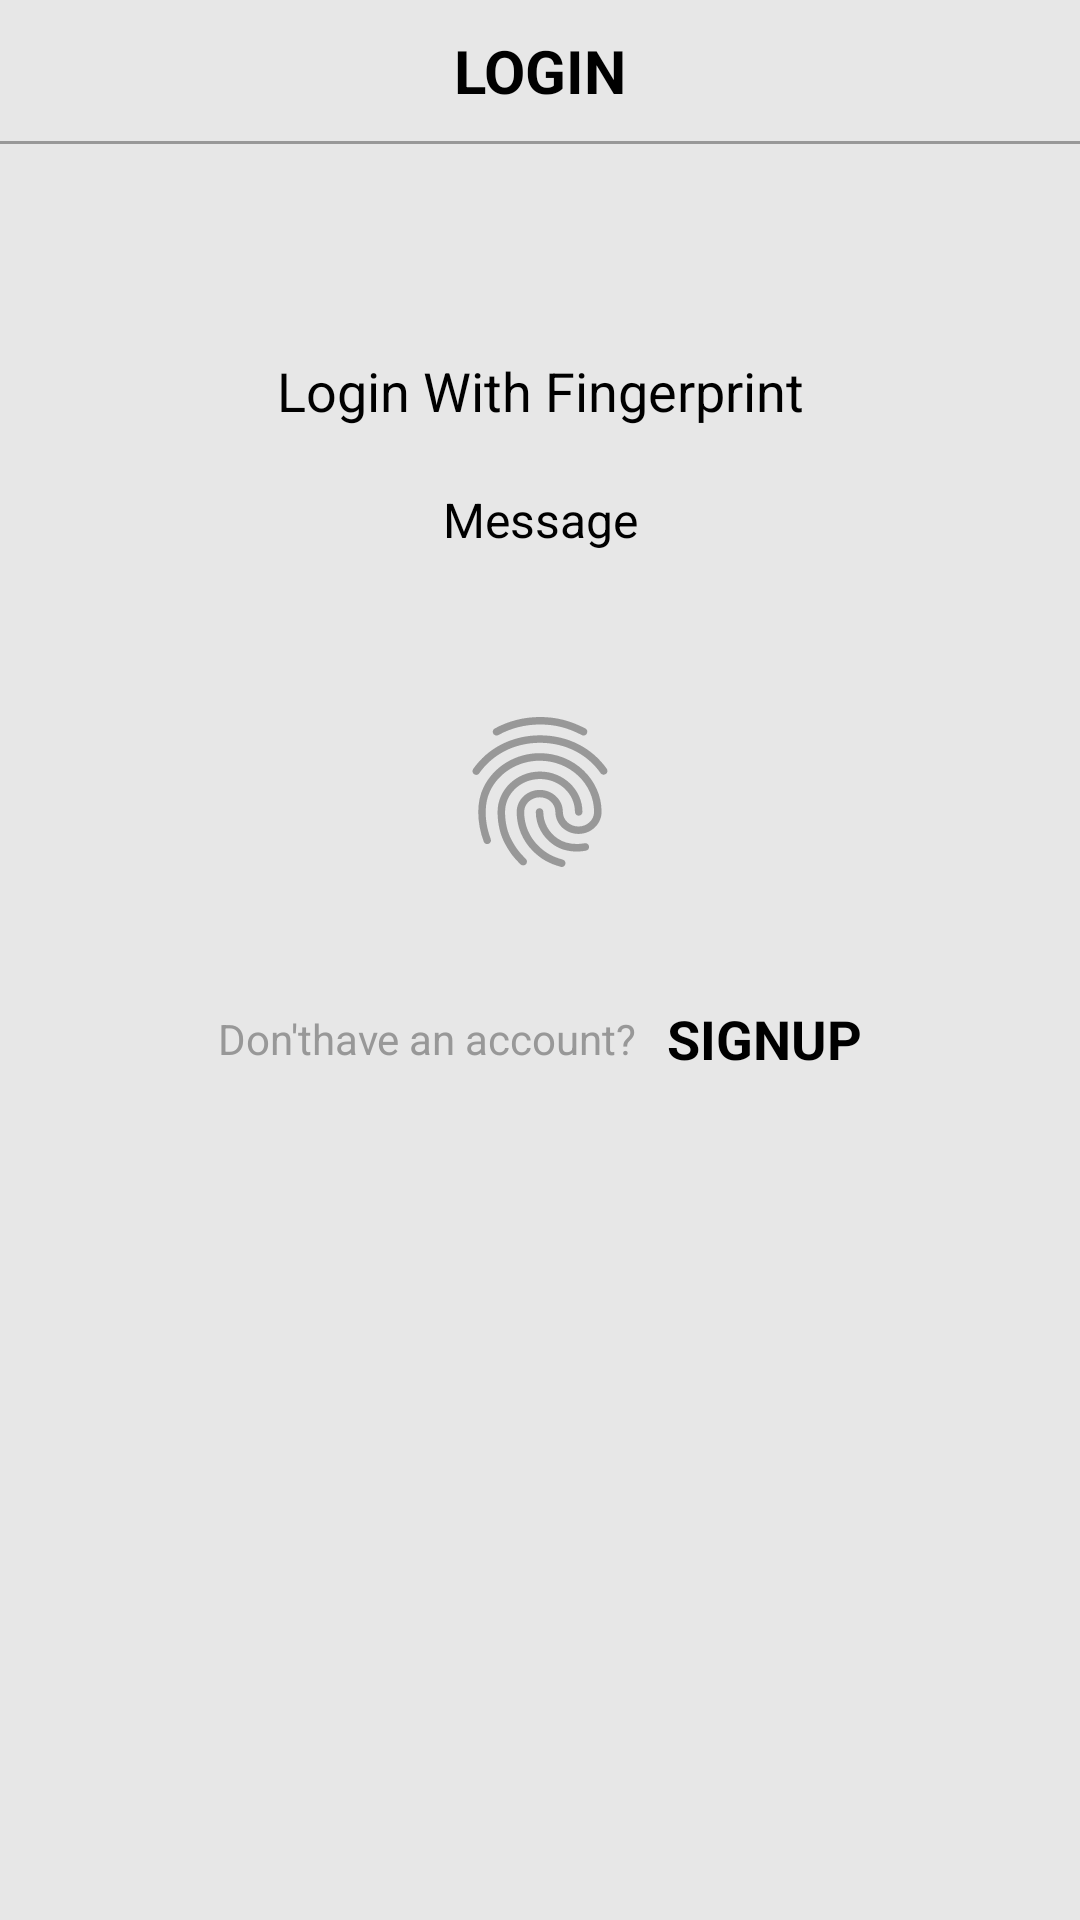

Point at icon controls on the screen. Image size 1080w x 1920h, points as (x,y).
fingerprint: (540,792)
